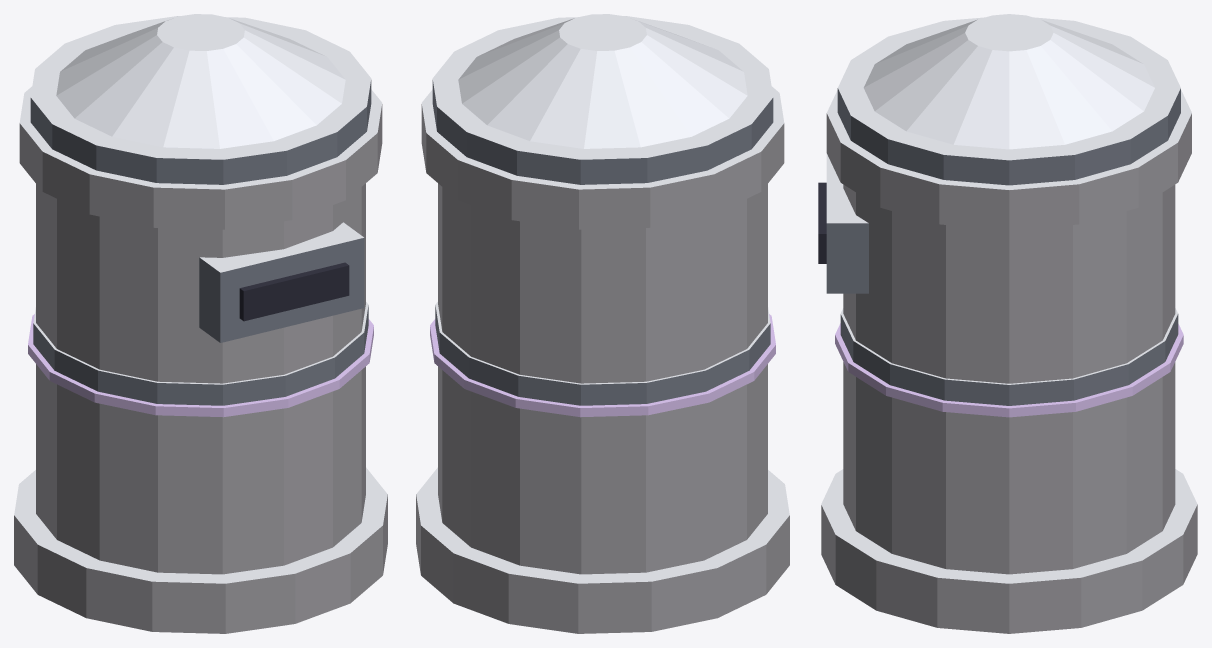
File: PR_Lixeira.fbx
3 views of the same model, side by side, from view 1: azimuth 30°, elevation 25°; view 2: azimuth 150°, elevation 25°; view 3: azimuth 270°, elevation 25° (orthographic).
Visible parts, largest first — view 1: PR_Lixeira; view 2: PR_Lixeira; view 3: PR_Lixeira.
Part boxes in pixels (x1,y1,x2,y2): PR_Lixeira: [14, 14, 387, 633]; PR_Lixeira: [416, 14, 789, 633]; PR_Lixeira: [818, 14, 1197, 633].
Bounding box in the file's own units: 0.68 × 1.04 × 0.685.
